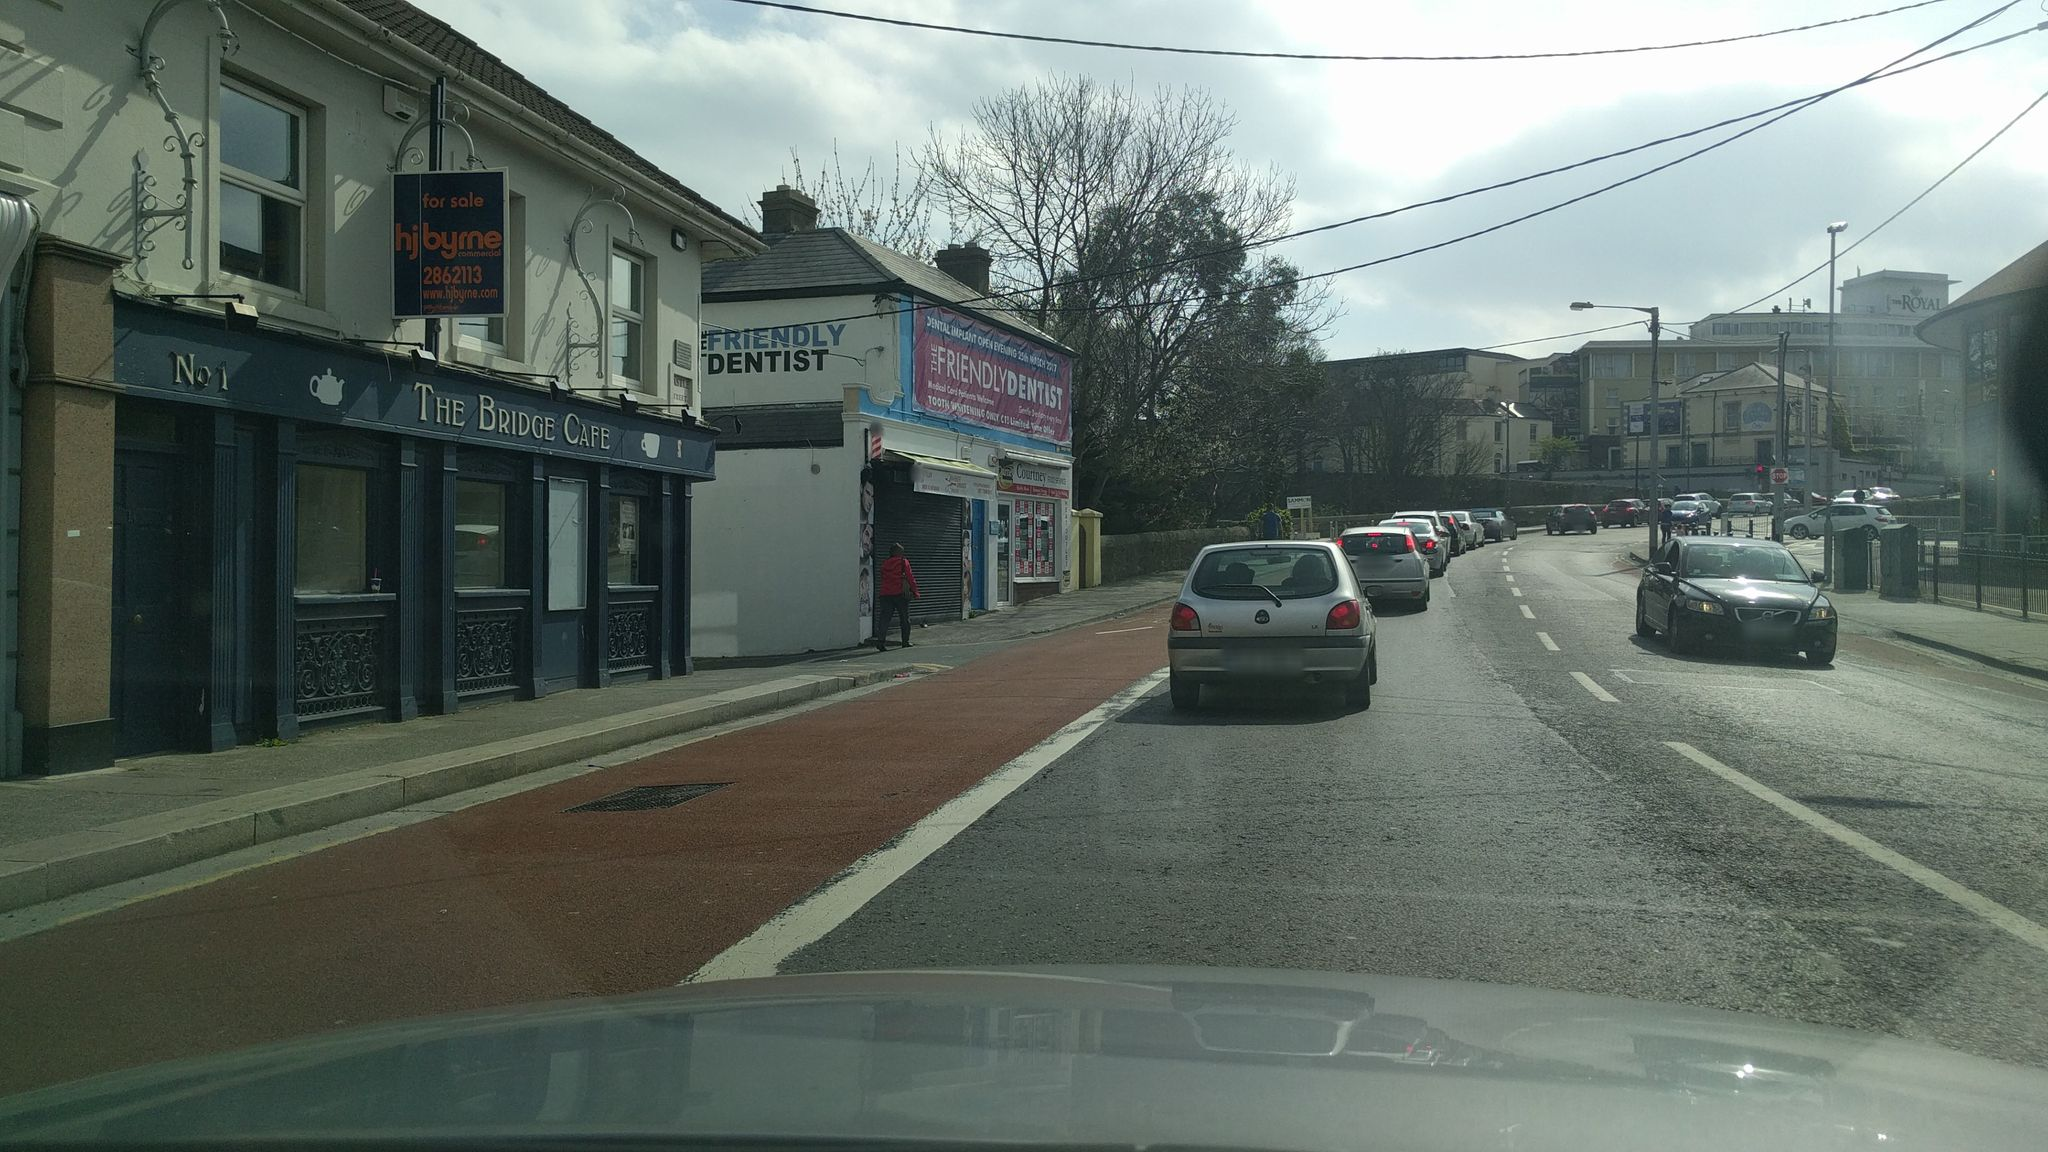property sign: (367, 153, 523, 338)
